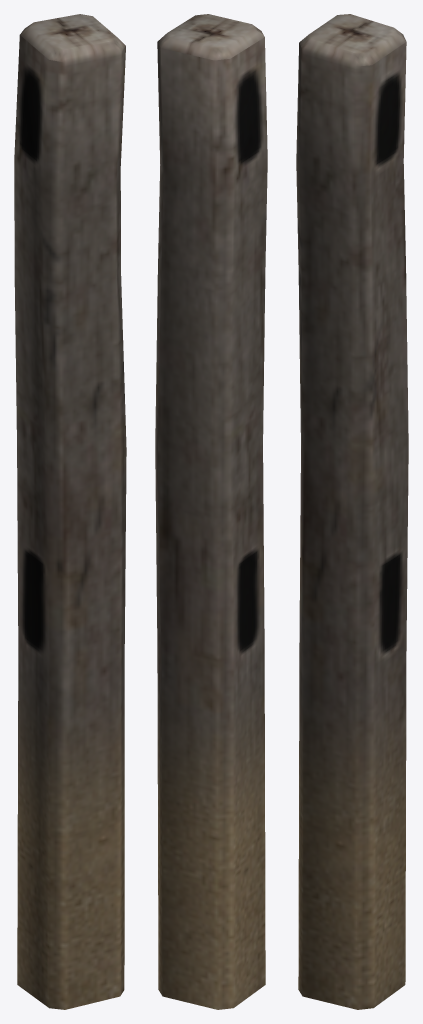
The model's file is wall_wood_end.fbx.
3 renders of one model, left to right at view 1: azimuth 30°, elevation 25°; view 2: azimuth 150°, elevation 25°; view 3: azimuth 330°, elevation 25°, orthographic.
Parts seen in each view (by area): view 1: wall_wood_end; view 2: wall_wood_end; view 3: wall_wood_end.
Boxes of the visible parts, <box> form: wall_wood_end: <box>14,14,126,1009</box>; wall_wood_end: <box>155,14,267,1009</box>; wall_wood_end: <box>296,14,408,1009</box>.
Size of the model in its own units: 0.1264 by 1.37 by 0.1225.
